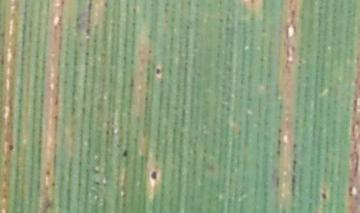tarspot: (318, 187, 329, 202), (148, 168, 160, 181), (6, 142, 18, 154), (155, 65, 164, 80), (121, 148, 130, 159)
